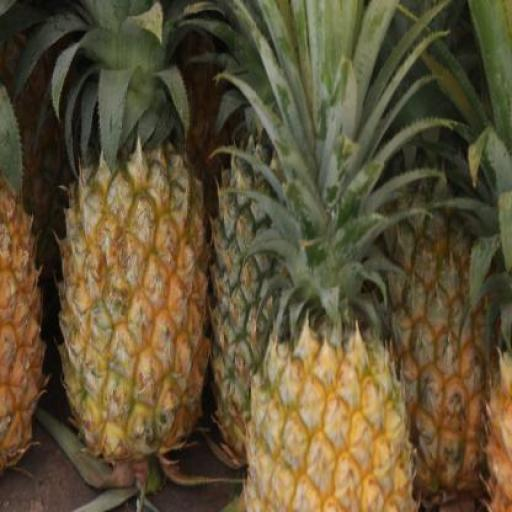------------------------------: (59, 154, 203, 460)
Pineapple - v8 v1: (245, 308, 411, 512)
